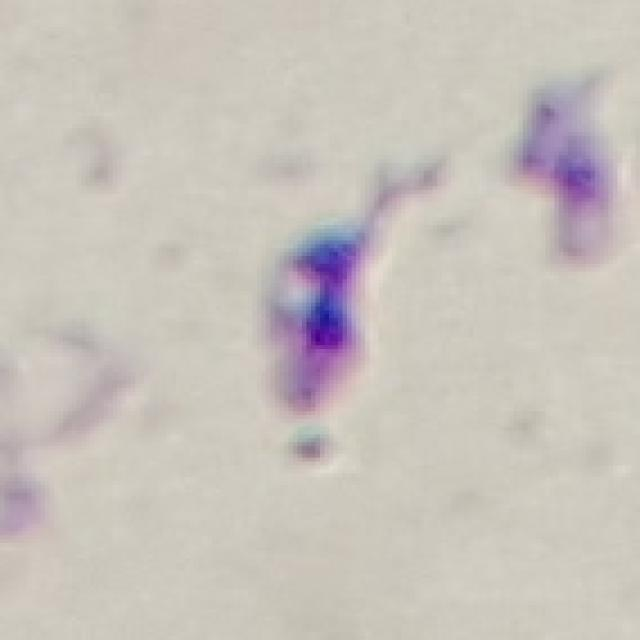non-sperm: (279, 218, 377, 416), (518, 87, 619, 261)
